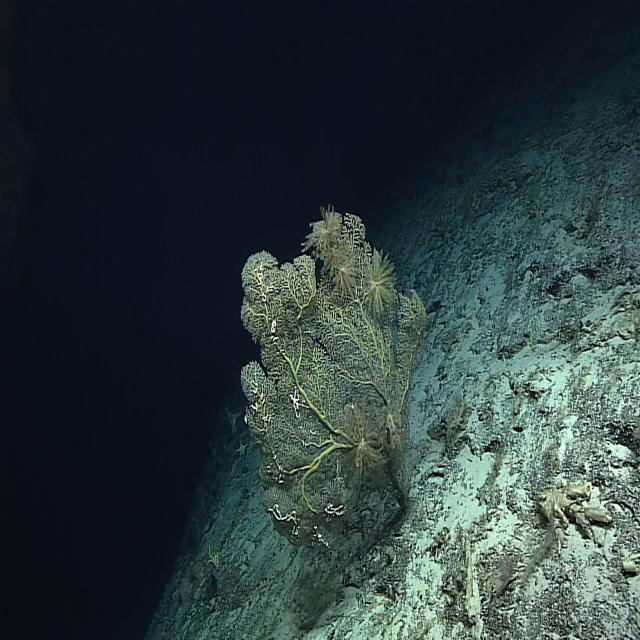Brittle Star: (266, 493, 302, 557), (286, 378, 308, 426)
Not Brittle Star: (237, 200, 445, 562), (310, 200, 360, 308), (359, 250, 399, 322)
